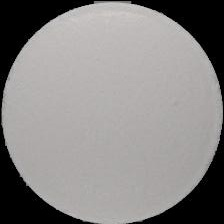76237-170: (0, 0, 224, 224)
